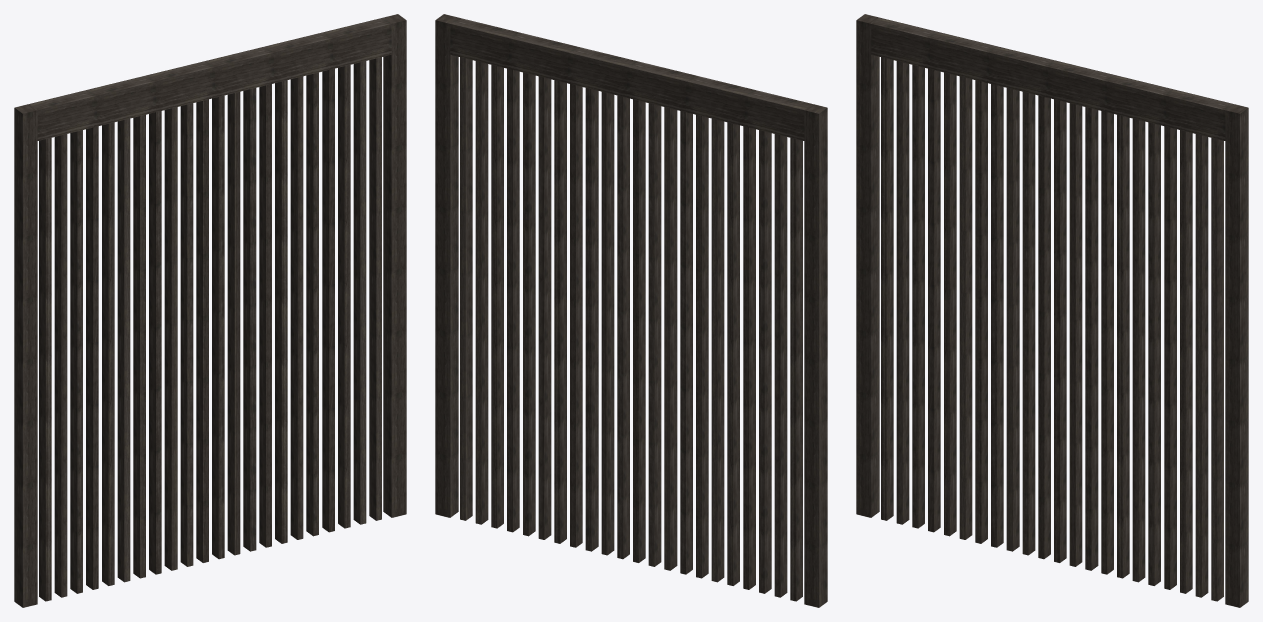
Rendered from 2400-1950_blackebony.fbx.
The picture shows the model from 3 angles, left to right: view 1: azimuth 30°, elevation 25°; view 2: azimuth 150°, elevation 25°; view 3: azimuth 330°, elevation 25°; orthographic projection.
Parts seen in each view (by area): view 1: 2400-1950_blackebony; view 2: 2400-1950_blackebony; view 3: 2400-1950_blackebony.
Boxes of the visible parts, bbox=[...] form: 2400-1950_blackebony: bbox=[14, 14, 406, 607]; 2400-1950_blackebony: bbox=[435, 14, 827, 607]; 2400-1950_blackebony: bbox=[856, 14, 1248, 607].
Bounding box in the file's own units: 195 × 240 × 7.5.
Materials: 1 (1 with a texture image).
